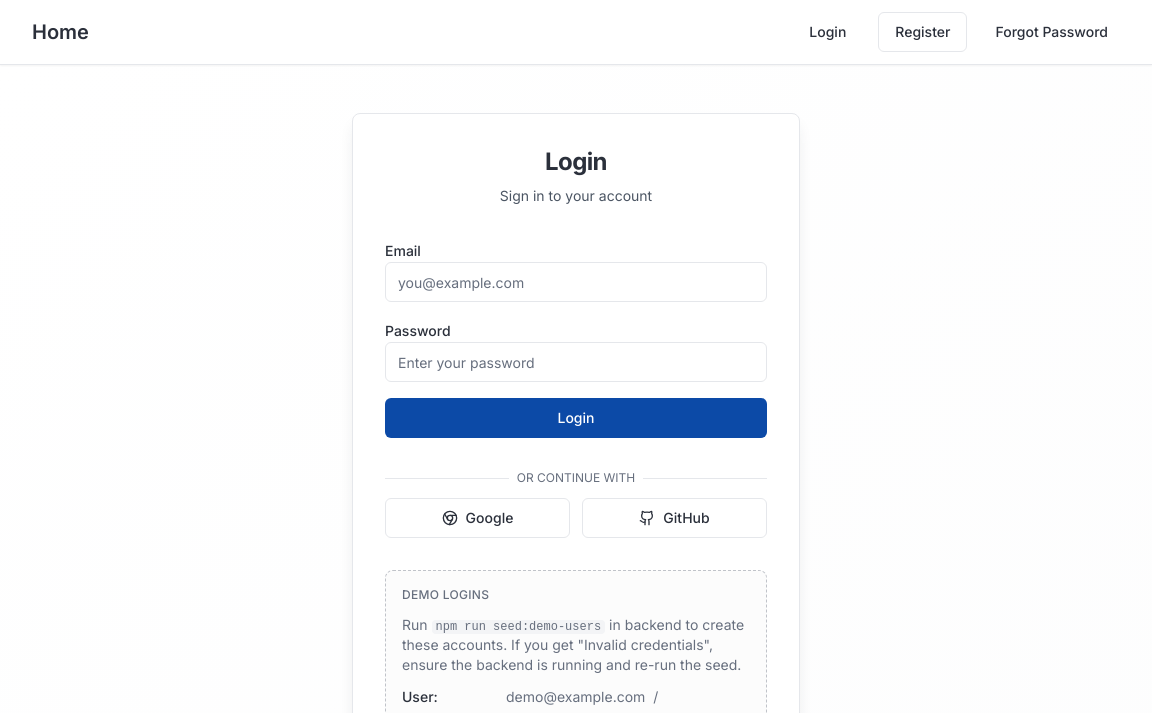
Test: Login Page › should validate password is required
Type "test@example.com" into the field labelled "Email" at {"x": 576, "y": 282}, box [385,262,767,302]
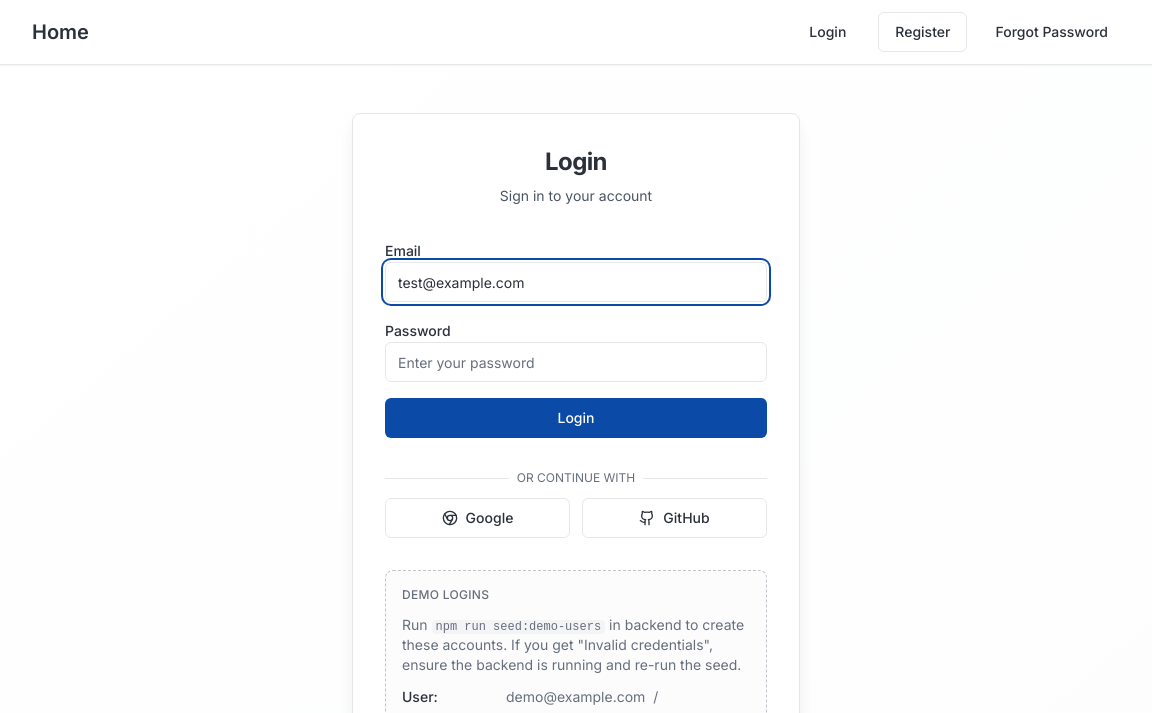
Click the button "Login" at {"x": 576, "y": 418}, box [385,398,767,438]
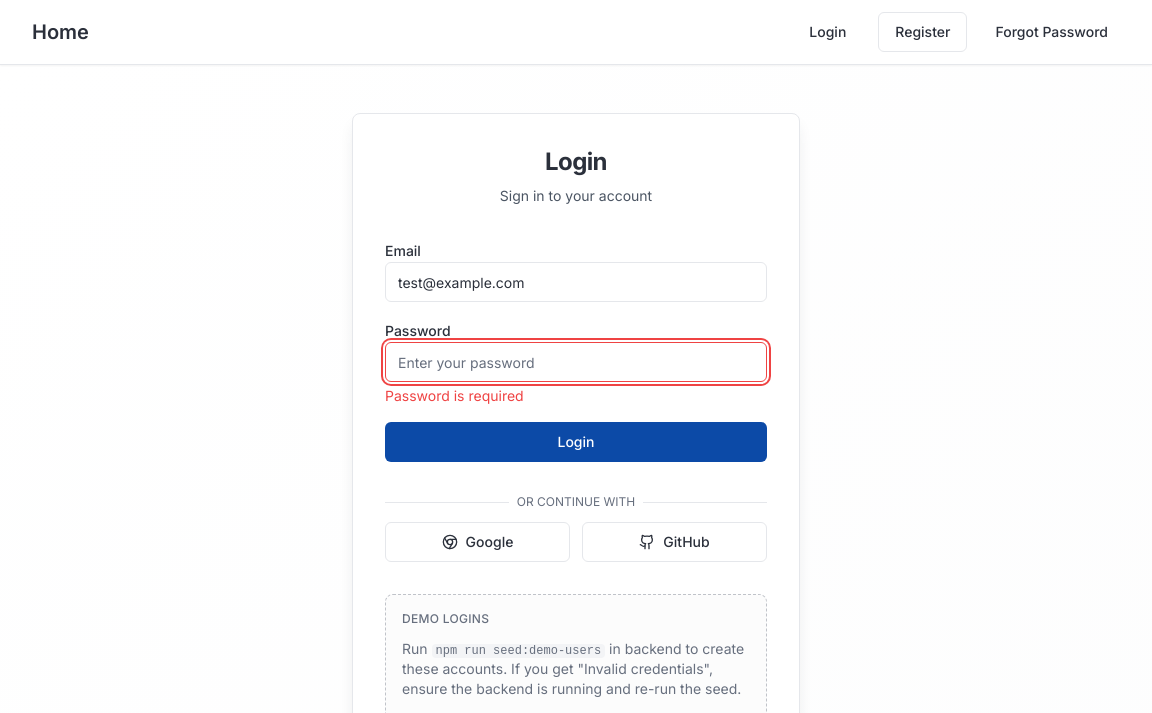
expect the text "Password is required" is shown: met, box [385,387,524,404]
